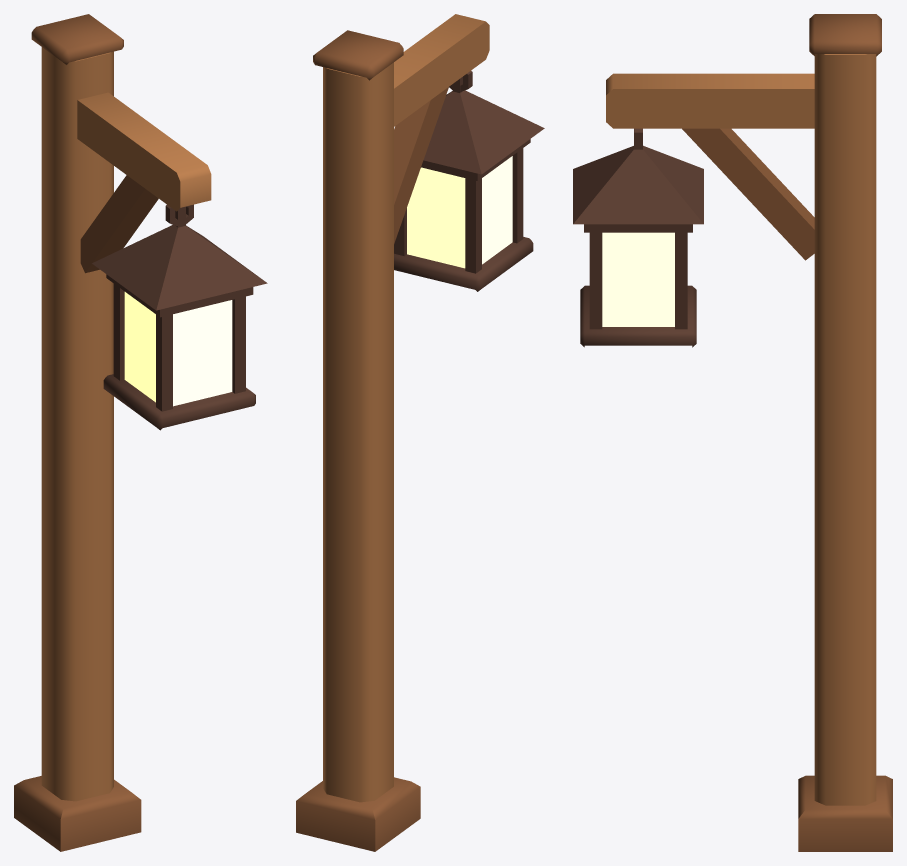
Rendered from lantern_post.glb.
3 renders of one model, left to right at view 1: azimuth 30°, elevation 25°; view 2: azimuth 150°, elevation 25°; view 3: azimuth 270°, elevation 25°, orthographic. The views are drawn at different scales.
Visible parts, largest first — view 1: lantern_post; view 2: lantern_post; view 3: lantern_post.
Part boxes in pixels (x1,y1,x2,y2): lantern_post: (14, 14, 267, 851); lantern_post: (296, 14, 544, 851); lantern_post: (573, 14, 892, 851).
Size of the model in its own units: 0.36 by 2.45 by 0.88.
2 materials, 2 textured.
